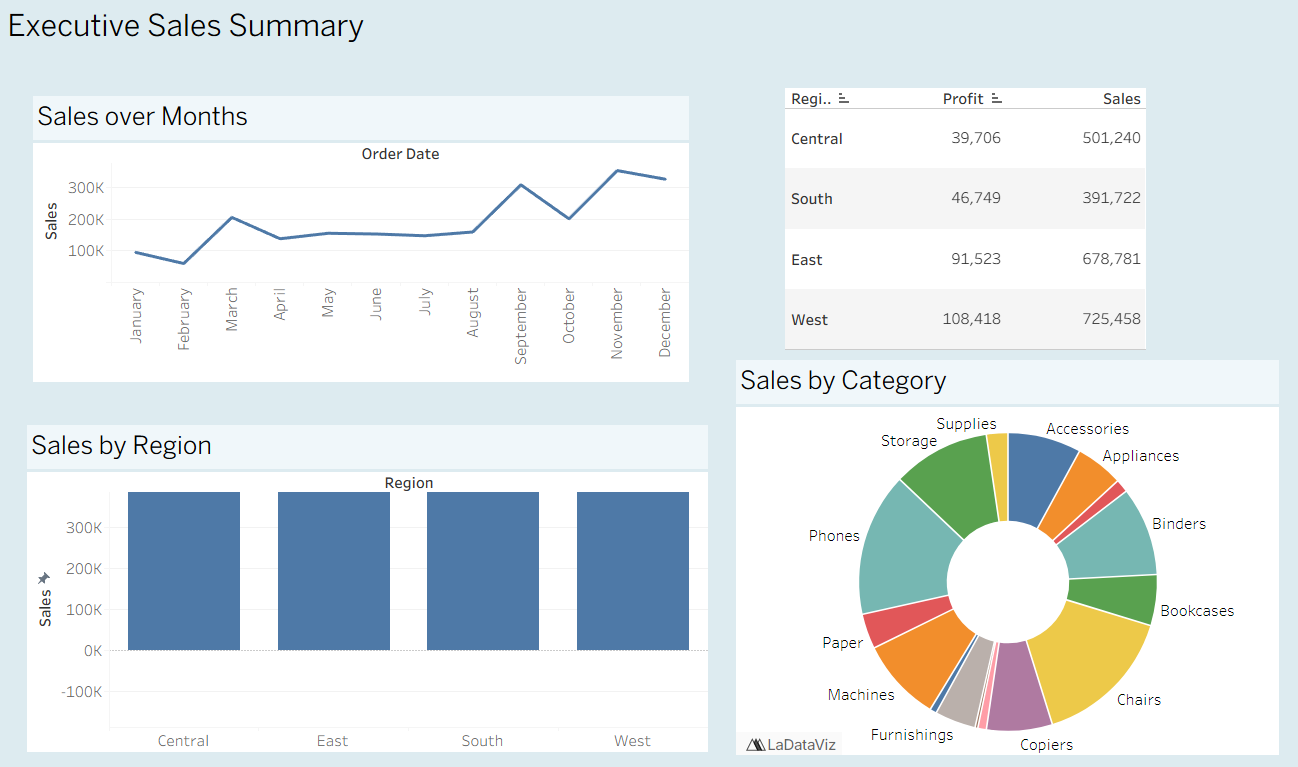

The page's visual inventory and layout, read from the dashboard file:
{"tool":"tableau","page":{"name":"Dashboard 2","canvas":[1000,1000],"units":"permille","ordinal":1},"visuals":[{"type":"title","box":[6.1,10,987.9,57.4]},{"type":"worksheet","title":"Sheet 1","mark":"Automatic","rows":["Sales"],"cols":["Order Date"],"box":[31.1,118.5,497,332.9]},{"type":"worksheet","title":"Sheet 4","mark":"Automatic","rows":["Region"],"box":[601.5,133.4,273.5,304.2]},{"type":"worksheet","title":"Sheet 3","box":[566.7,467.6,411.4,460.1]},{"type":"worksheet","title":"Sheet 2","mark":"Automatic","rows":["Sales"],"cols":["Region"],"box":[26.5,501.2,515.9,380.3]}]}

Visuals, with their boxes on the dashboard's canvas, which has no fixed pixel size, in thousandths of its width and height (x1, y1, x2, y2). These are canvas units, not pixel positions in the 1298x767 screenshot, which may show the page scaled, cropped or inside an application window:
title: 6, 10, 994, 67
"Sheet 1" worksheet: 31, 118, 528, 451
"Sheet 4" worksheet: 602, 133, 875, 438
"Sheet 3" worksheet: 567, 468, 978, 928
"Sheet 2" worksheet: 26, 501, 542, 882
